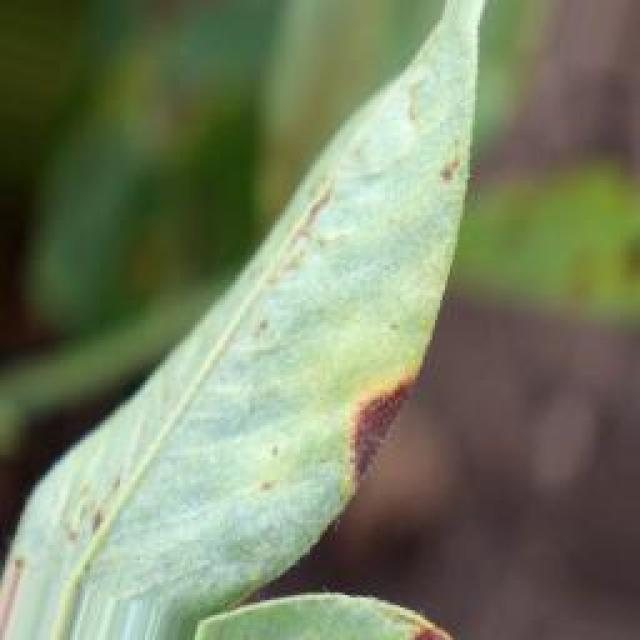Early_leaf_spot: (320, 343, 423, 504), (49, 466, 127, 557), (275, 200, 363, 260), (397, 587, 462, 640), (436, 149, 477, 222)
